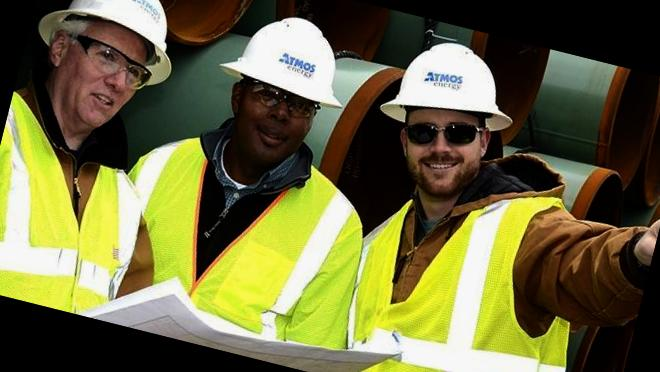helmet: (211, 0, 367, 131), (377, 33, 528, 150), (34, 0, 189, 76)
person: (311, 30, 634, 372), (101, 0, 409, 350), (0, 0, 201, 324)
